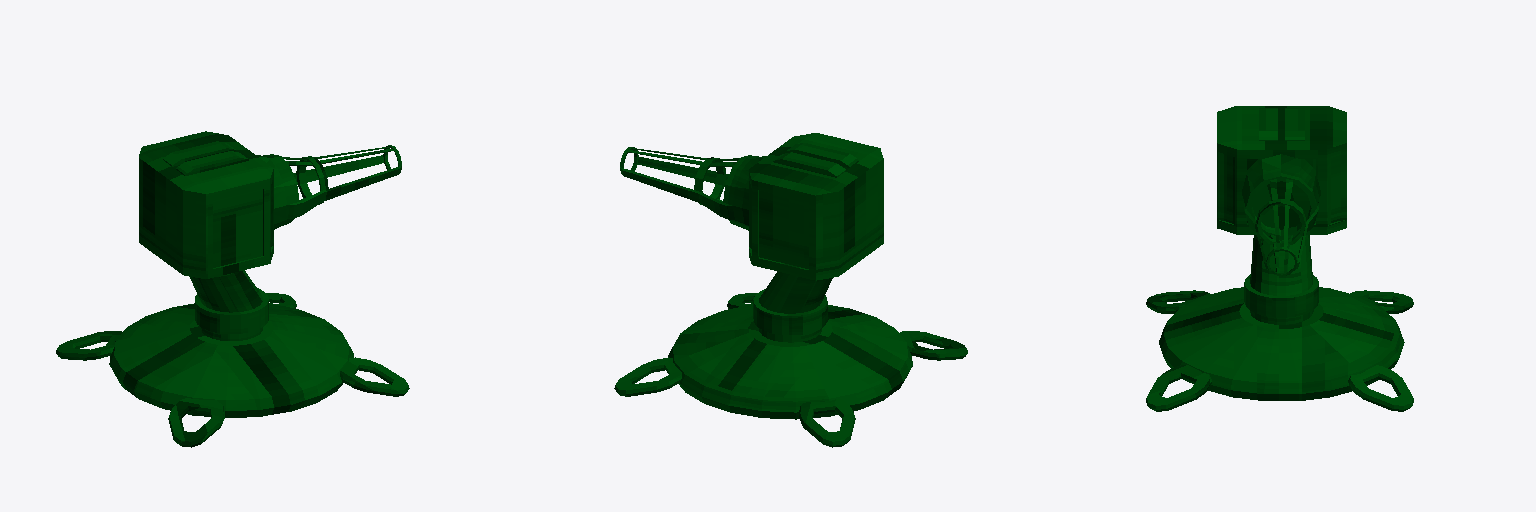
The picture shows the model from 3 angles: view 1: azimuth 30°, elevation 25°; view 2: azimuth 150°, elevation 25°; view 3: azimuth 270°, elevation 25°; orthographic projection.
Visible parts, largest first — view 1: Cube.002_Cube.003; view 2: Cube.002_Cube.003; view 3: Cube.002_Cube.003.
Part boxes in pixels (left/top/right/bottom): Cube.002_Cube.003: left=56, top=131, right=409, bottom=447; Cube.002_Cube.003: left=614, top=133, right=967, bottom=447; Cube.002_Cube.003: left=1146, top=106, right=1413, bottom=411.
Size of the model in its own units: 4 by 3.08 by 3.33.
1 materials, 1 textured.